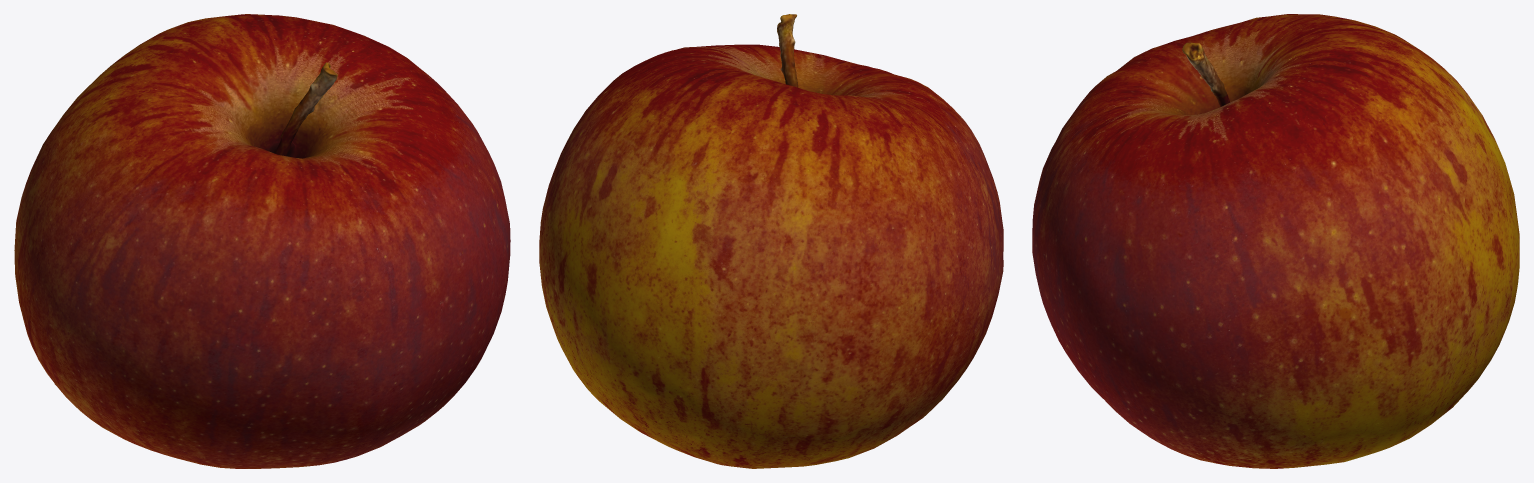
Rendered from food_apple_01_4k - Copy (2) - Copy.glb.
The picture shows the model from 3 angles, left to right: view 1: azimuth 30°, elevation 25°; view 2: azimuth 150°, elevation 25°; view 3: azimuth 270°, elevation 25°; orthographic projection. The views are drawn at different scales.
Parts seen in each view (by area): view 1: food_apple_01; view 2: food_apple_01; view 3: food_apple_01.
Part boxes in pixels (left/top/right/bottom): food_apple_01: left=14, top=14, right=510, bottom=468; food_apple_01: left=539, top=14, right=1003, bottom=468; food_apple_01: left=1032, top=14, right=1519, bottom=468.
Size of the model in its own units: 0.0976 by 0.0854 by 0.0959.
Materials: 1 (1 with a texture image).
